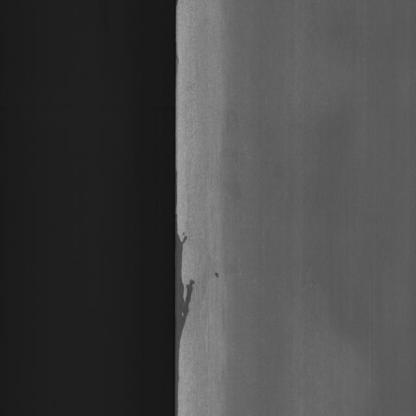water_spot: (163, 174, 202, 405)
